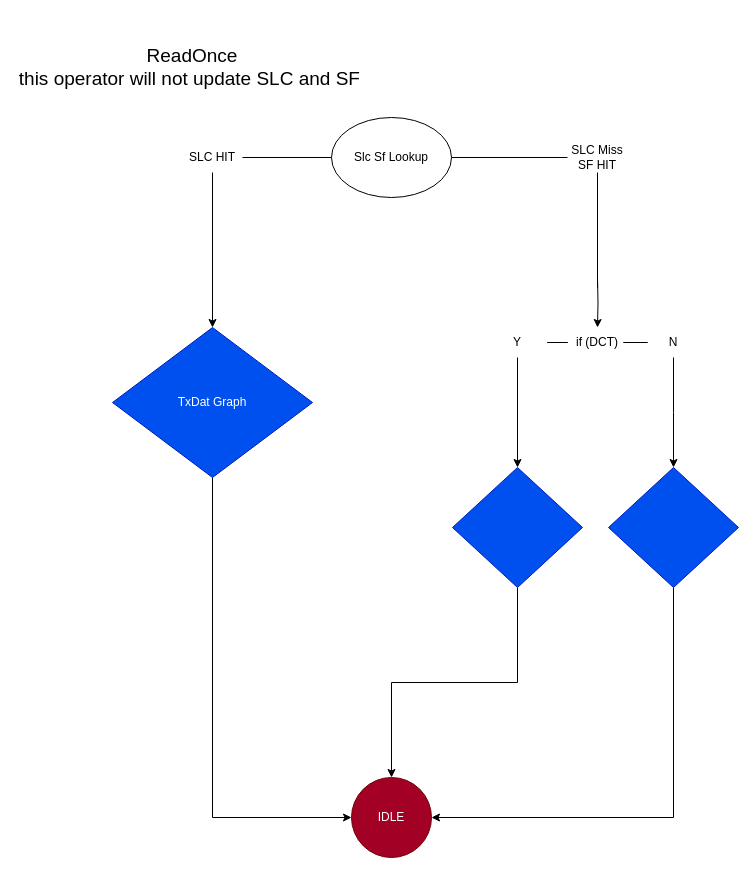
This 756x875 diagram has some shape labels left out. The centre of each missing label's shape, as x and y in pixels:
SnpOnce Graph: the point at 673,527
SnpOnceFwd Graph: the point at 517,527
